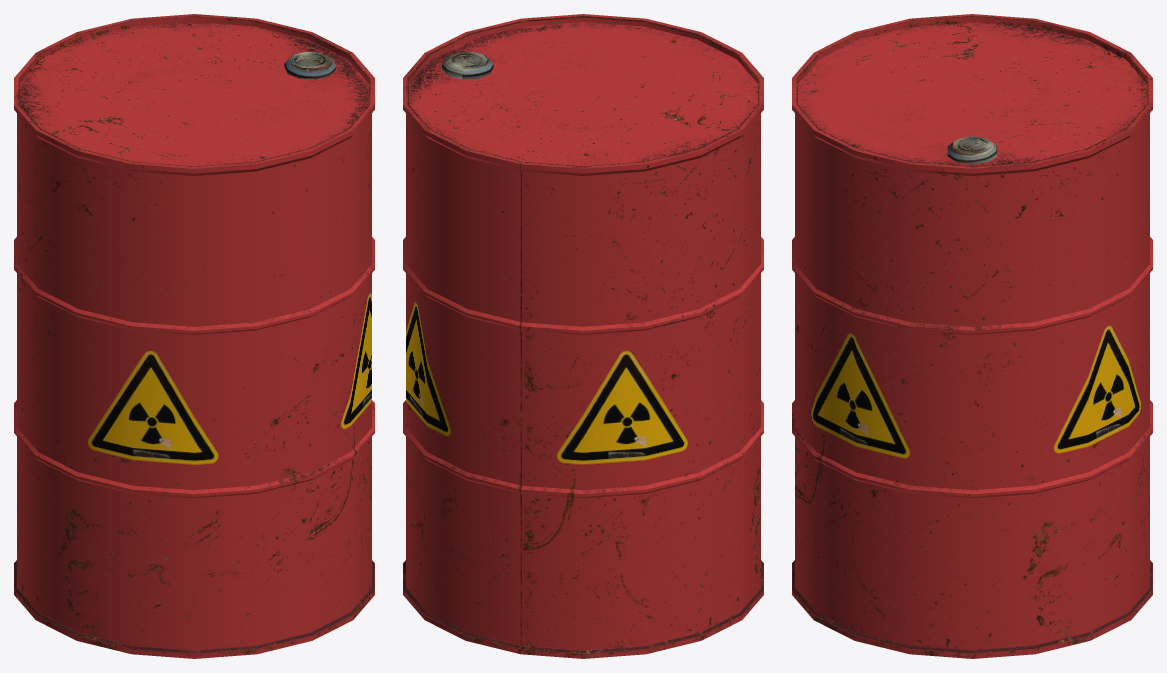
Rendered from barrel.glb.
3 renders of one model, left to right at view 1: azimuth 30°, elevation 25°; view 2: azimuth 150°, elevation 25°; view 3: azimuth 270°, elevation 25°, orthographic.
Parts seen in each view (by area): view 1: Object_3, Object_4; view 2: Object_3, Object_4; view 3: Object_3, Object_4.
Boxes of the visible parts, box(x1,y1,x2,y2) form: Object_3: box(14, 14, 374, 658); Object_4: box(284, 51, 335, 79); Object_3: box(403, 14, 763, 658); Object_4: box(442, 51, 493, 79); Object_3: box(792, 14, 1152, 658); Object_4: box(947, 136, 997, 164).
Bounding box in the file's own units: 12.2 × 18.11 × 12.01.
Materials: 2 (2 with a texture image).
